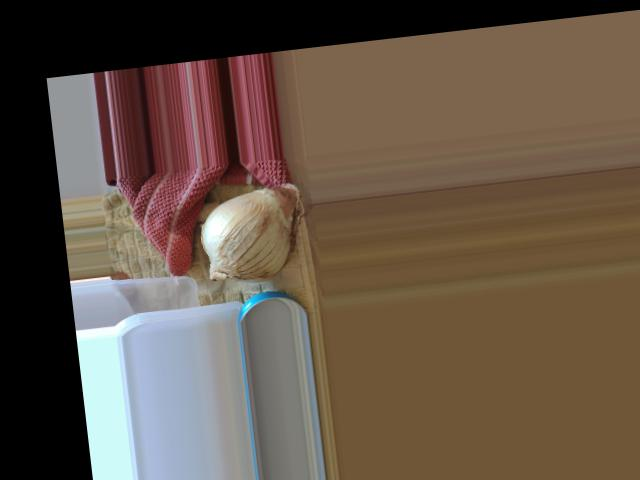onion: (197, 181, 307, 288)
